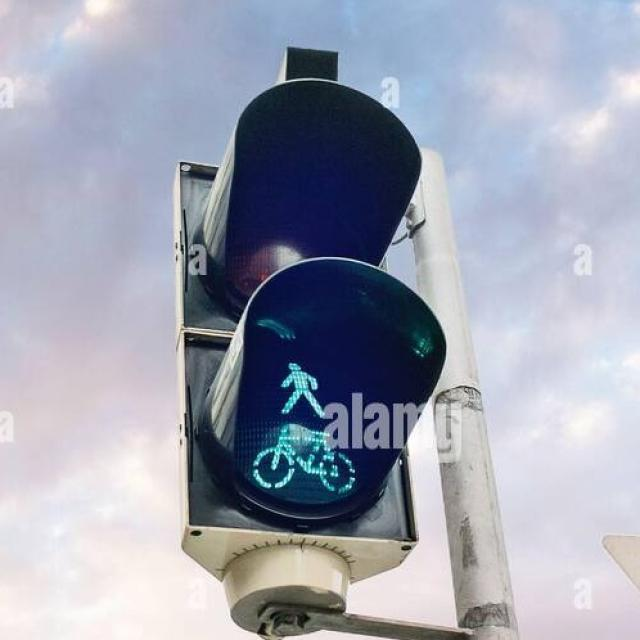green_light: (260, 344, 322, 422)
